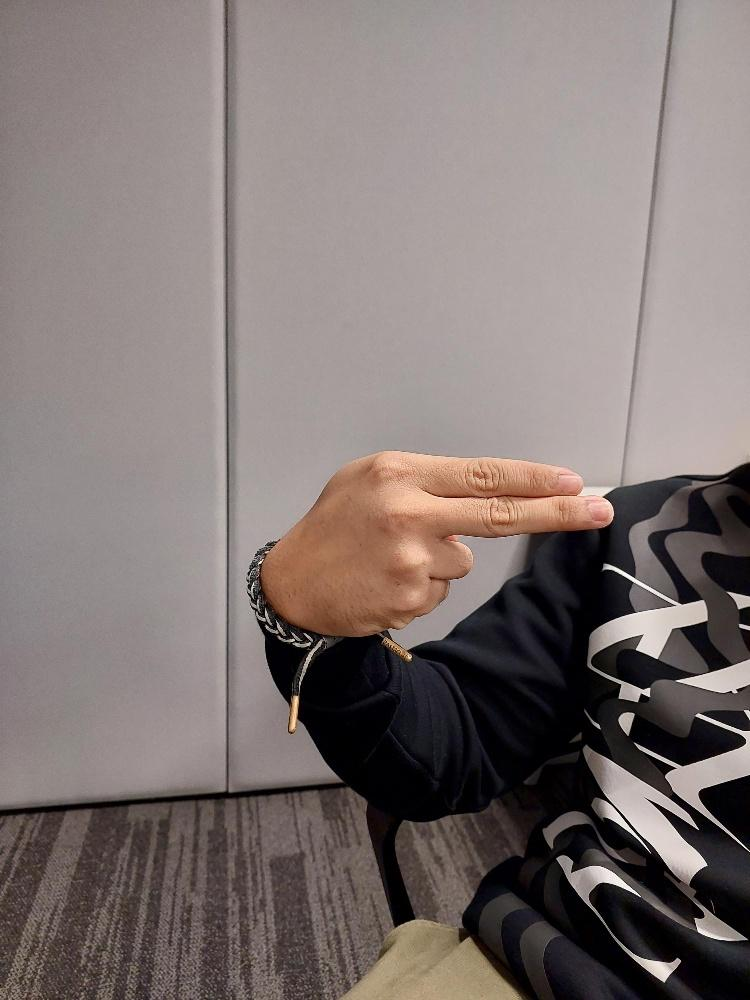h: (257, 448, 616, 635)
